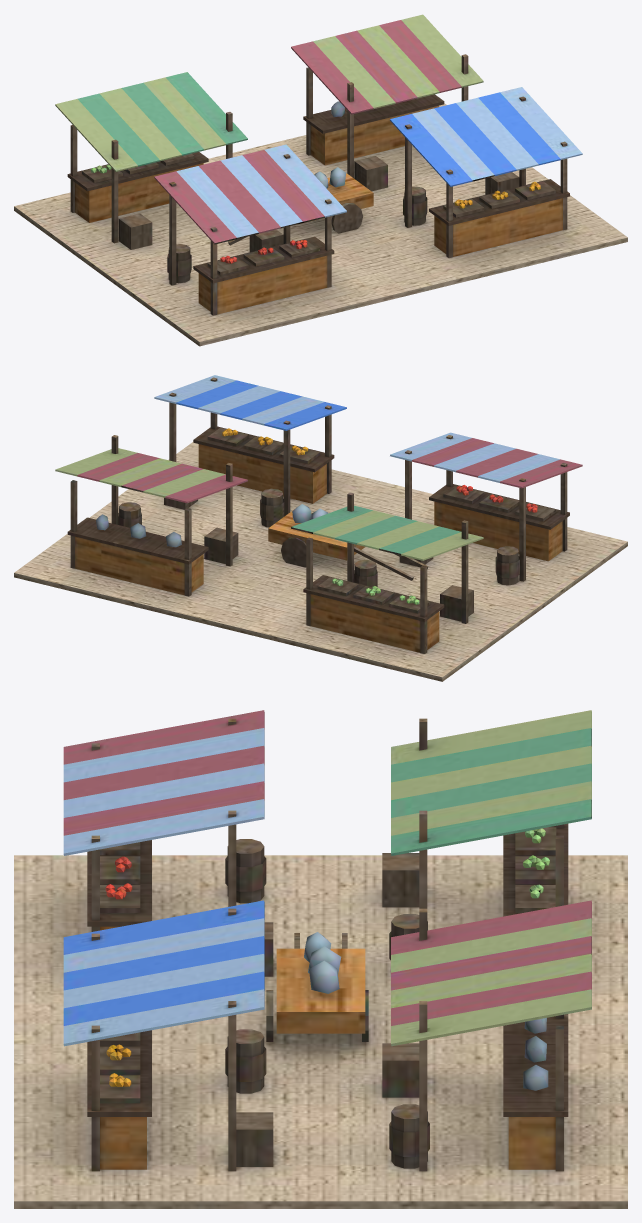
File: market.glb
The picture shows the model from 3 angles, top to bottom: view 1: azimuth 30°, elevation 25°; view 2: azimuth 150°, elevation 25°; view 3: azimuth 270°, elevation 25°; orthographic projection. The views are drawn at different scales.
Parts seen in each view (by area): view 1: market; view 2: market; view 3: market.
Boxes of the visible parts, bbox=[...] form: market: bbox=[14, 14, 627, 346]; market: bbox=[14, 375, 627, 681]; market: bbox=[14, 710, 627, 1208].
Size of the model in its own units: 12 by 2.87 by 9.
1 material, 1 textured.
